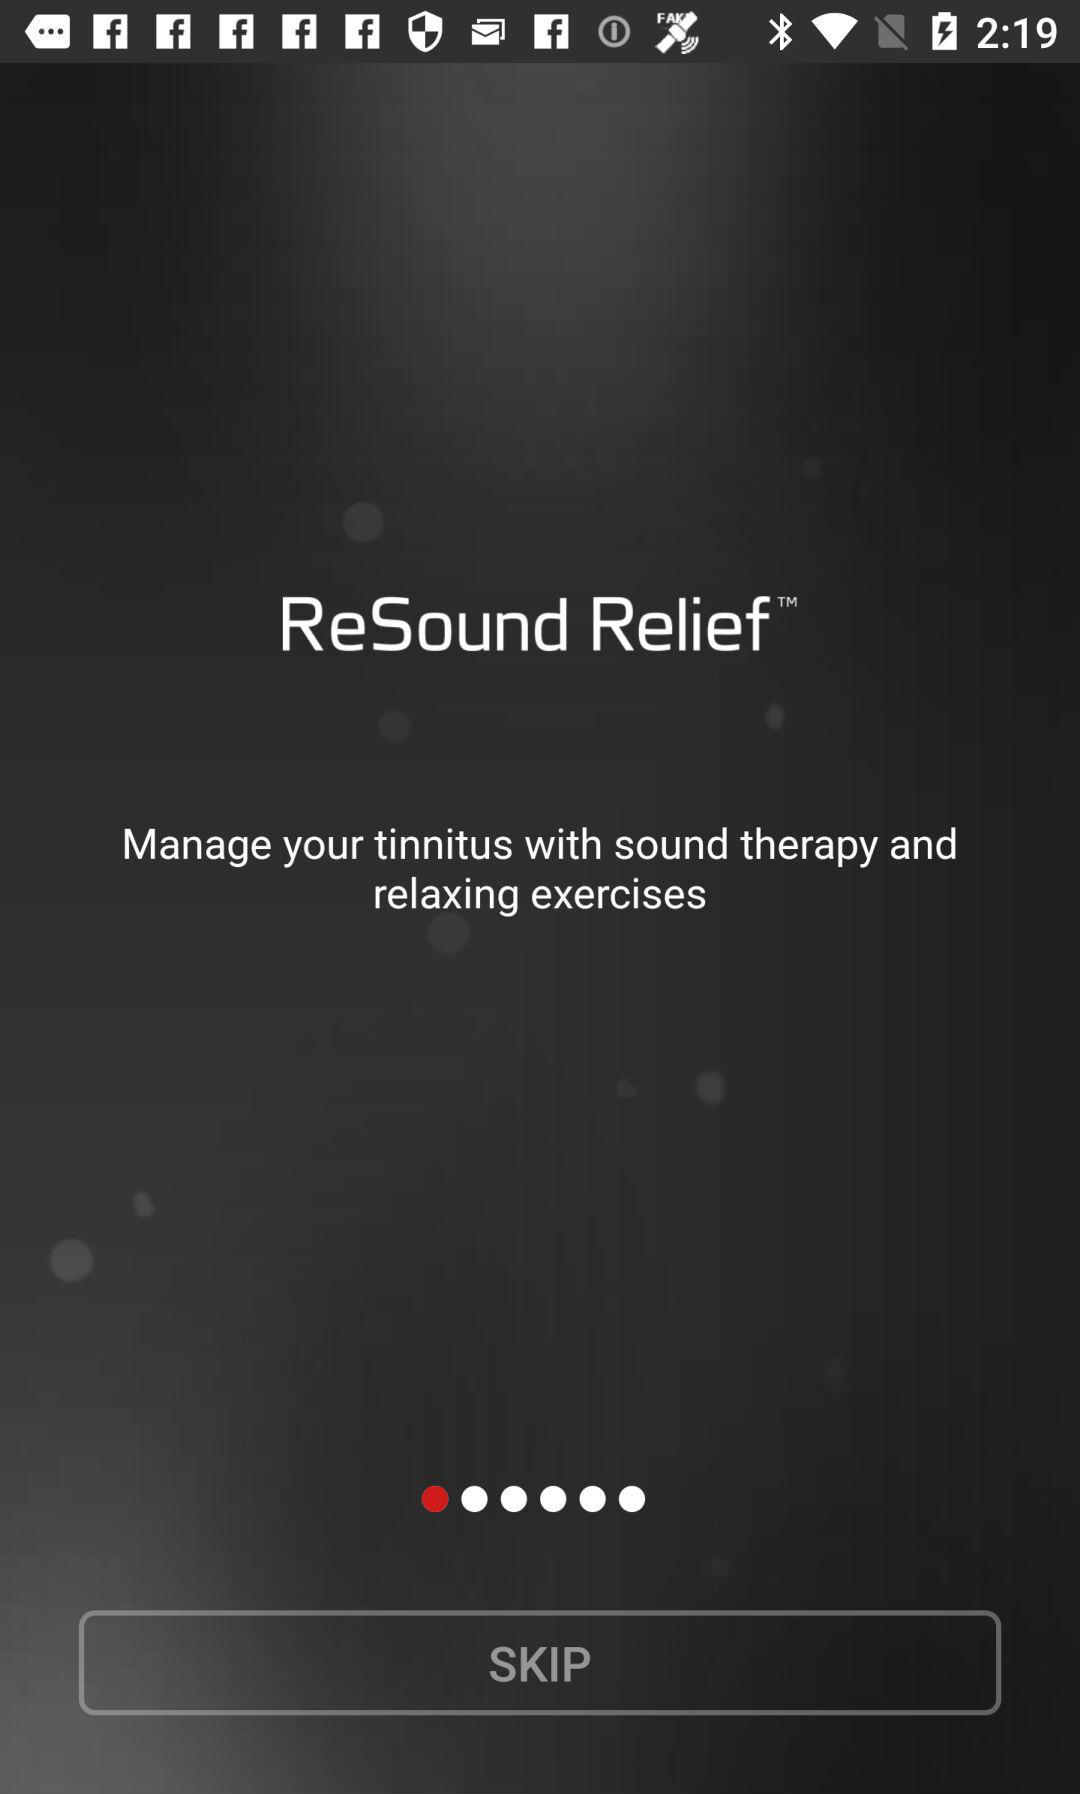PageIndicator: (419, 1483, 648, 1515)
Text: (124, 827, 958, 918), (281, 596, 801, 656)
TextButton: (79, 1609, 1002, 1717)
UpperTaskBar: (1, 1, 1080, 64)
